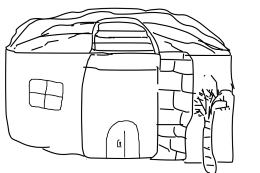big_house: (1, 2, 258, 171)
closed_window: (25, 74, 68, 117)
door: (98, 116, 145, 164)
roof: (4, 3, 239, 59)
wall: (77, 48, 167, 167)
